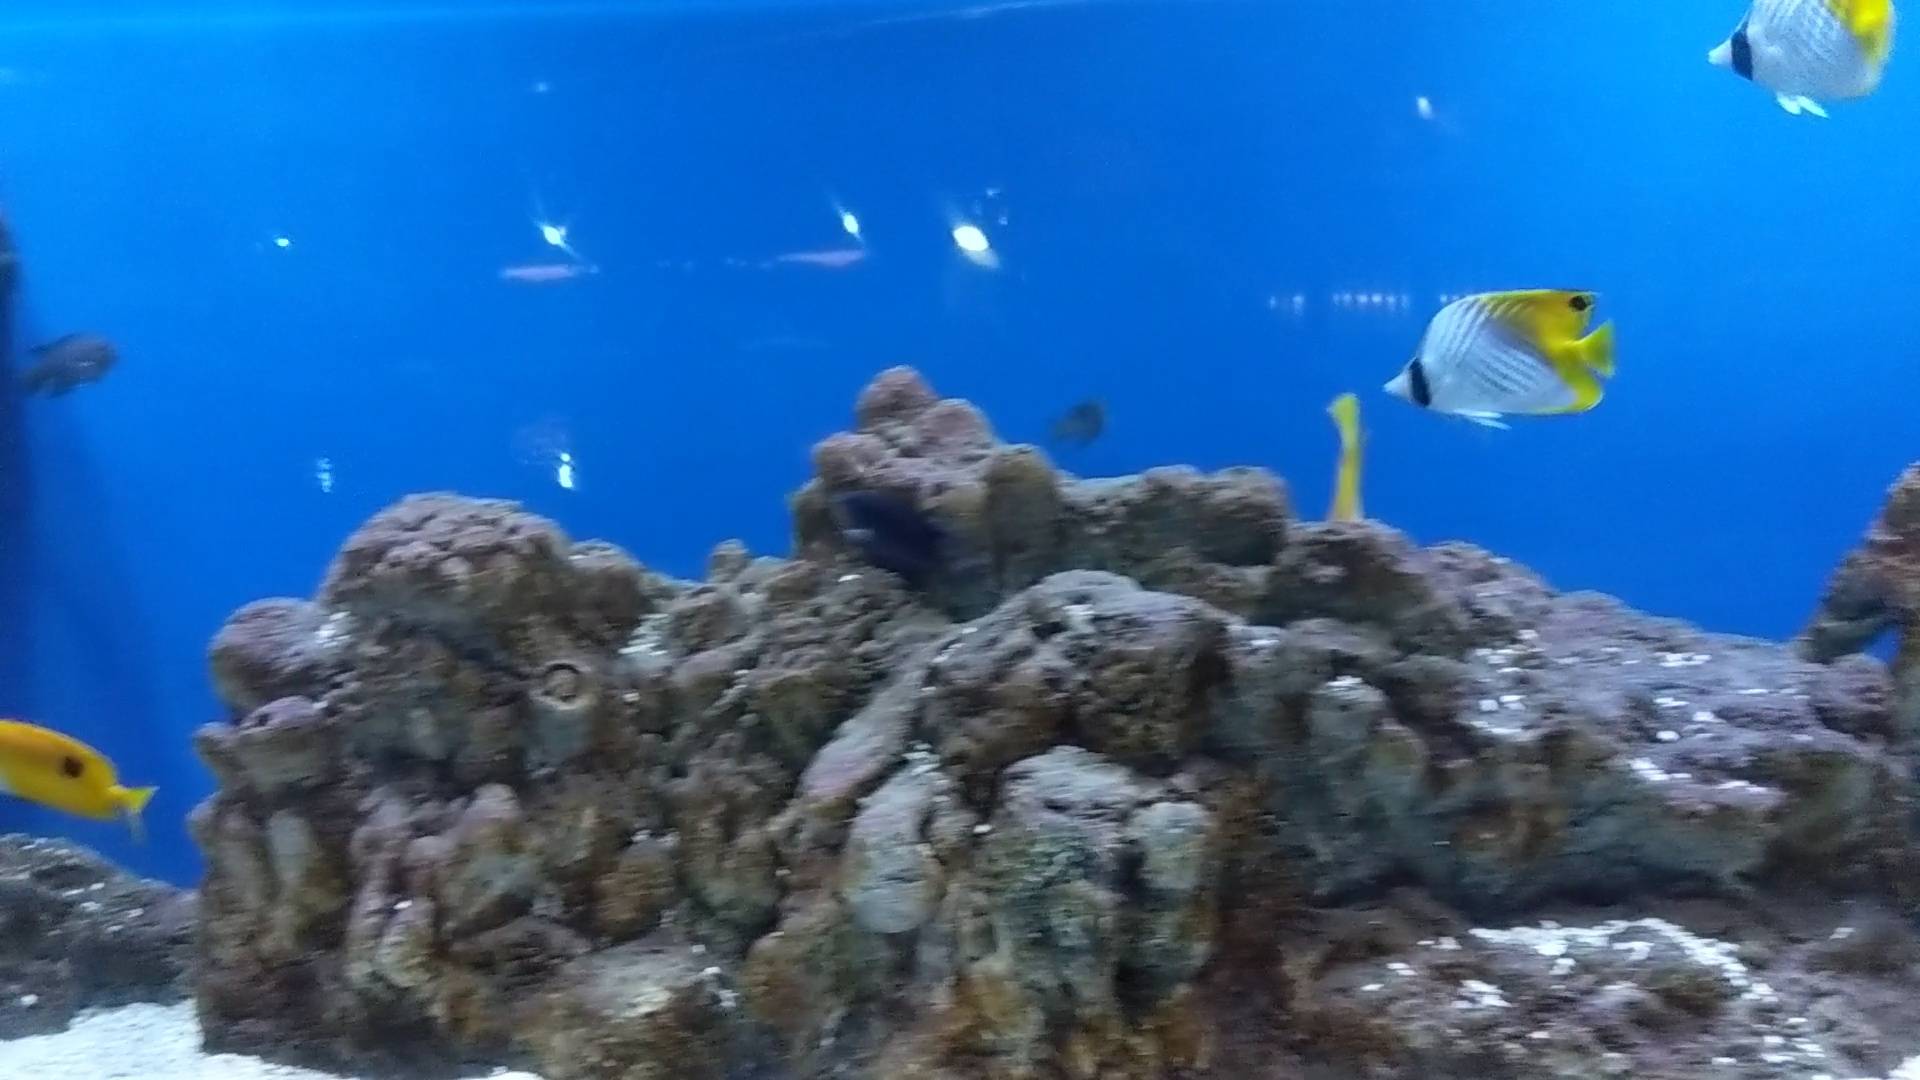butterflyfish: (1354, 305, 1617, 410), (1354, 320, 1617, 425), (1702, 0, 1904, 96)
rabbitfish: (0, 692, 169, 828)
